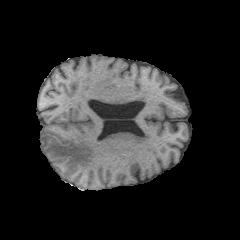glioma: (43, 135, 95, 168)
